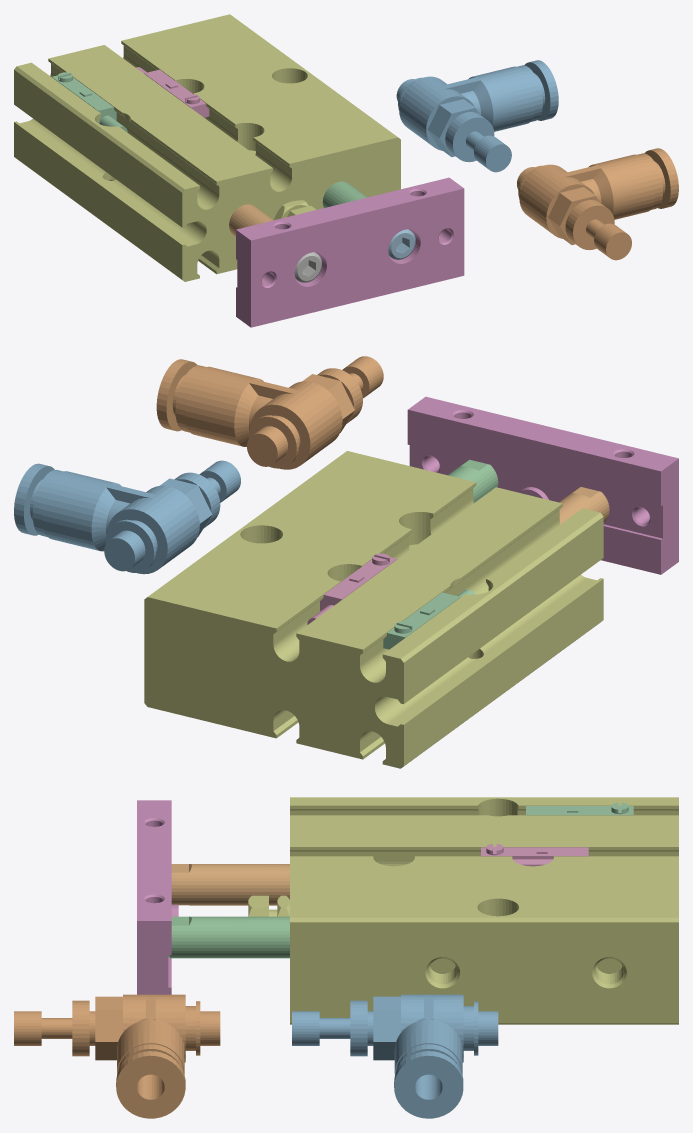
File: case-02_claude48.glb
3 renders of one model, top to bottom at view 1: azimuth 30°, elevation 25°; view 2: azimuth 150°, elevation 25°; view 3: azimuth 270°, elevation 25°, orthographic. The views are drawn at different scales.
Visible parts, largest first — view 1: c00001, c00002, c00010, c00009, c00008, c00007, c00003, c00004, c00005, c00006; view 2: c00001, c00002, c00009, c00010, c00007, c00008, c00003, c00004; view 3: c00001, c00010, c00009, c00002, c00004, c00003, c00007, c00008.
Part boxes in pixels (box(x1,y1,x2,y2)): c00001: box(14, 14, 400, 281); c00002: box(236, 177, 464, 327); c00010: box(396, 60, 558, 172); c00009: box(517, 148, 678, 260); c00008: box(52, 72, 127, 132); c00007: box(136, 67, 209, 117); c00003: box(229, 204, 273, 236); c00004: box(322, 181, 367, 207); c00005: box(294, 252, 321, 282); c00006: box(388, 229, 415, 259); c00001: box(144, 451, 603, 768); c00002: box(407, 396, 678, 574); c00009: box(156, 356, 383, 469); c00010: box(14, 460, 240, 574); c00007: box(307, 553, 397, 624); c00008: box(383, 589, 475, 649); c00003: box(559, 487, 609, 524); c00004: box(448, 459, 498, 502); c00001: box(248, 797, 678, 1024); c00010: box(292, 994, 498, 1118); c00009: box(14, 994, 220, 1118); c00002: box(137, 800, 178, 994); c00004: box(168, 916, 289, 958); c00003: box(171, 864, 289, 905); c00007: box(481, 843, 588, 866); c00008: box(526, 802, 633, 815).
Bounding box in the file's own units: 81 × 17.69 × 95.7.
